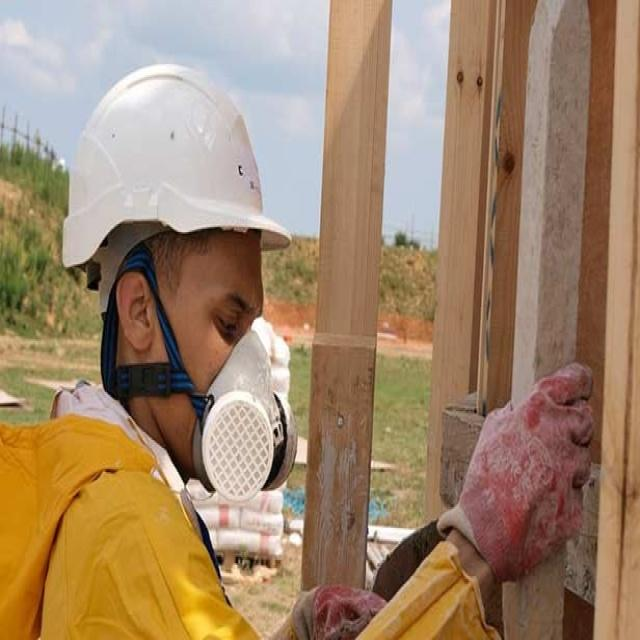helmet: (74, 89, 290, 640)
